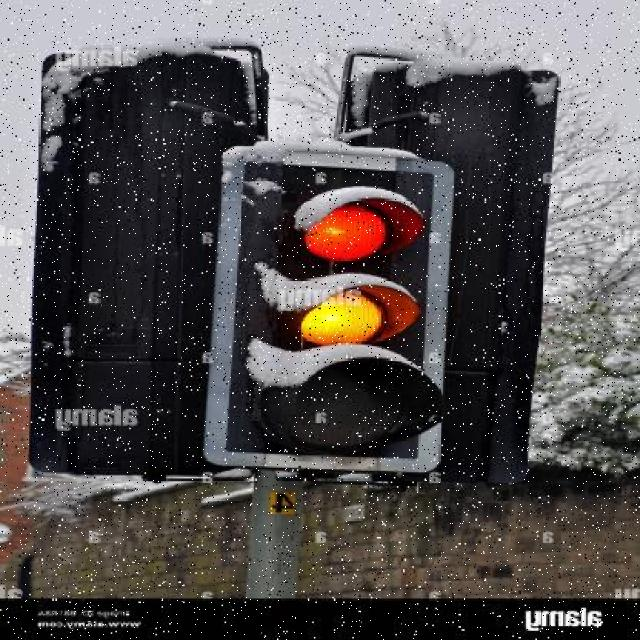red-yellow-light: (200, 122, 473, 484)
